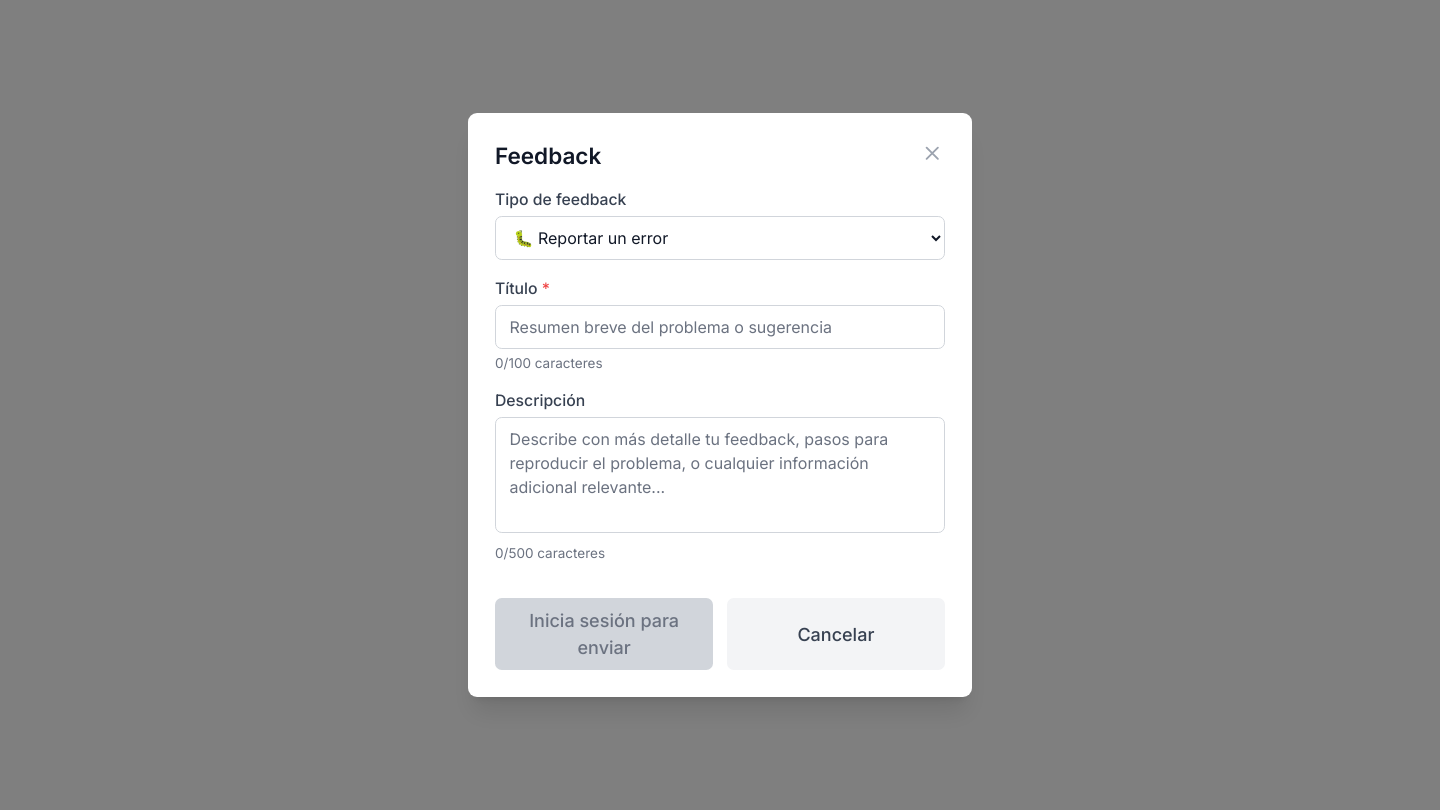
FeedbackModal › Form interactions › should show character count for description field
This screenshot has width=1440, height=810.
Replace the text in the text box labelled "Descripción" with "Test description" at [720, 475], box [495,417,945,533]
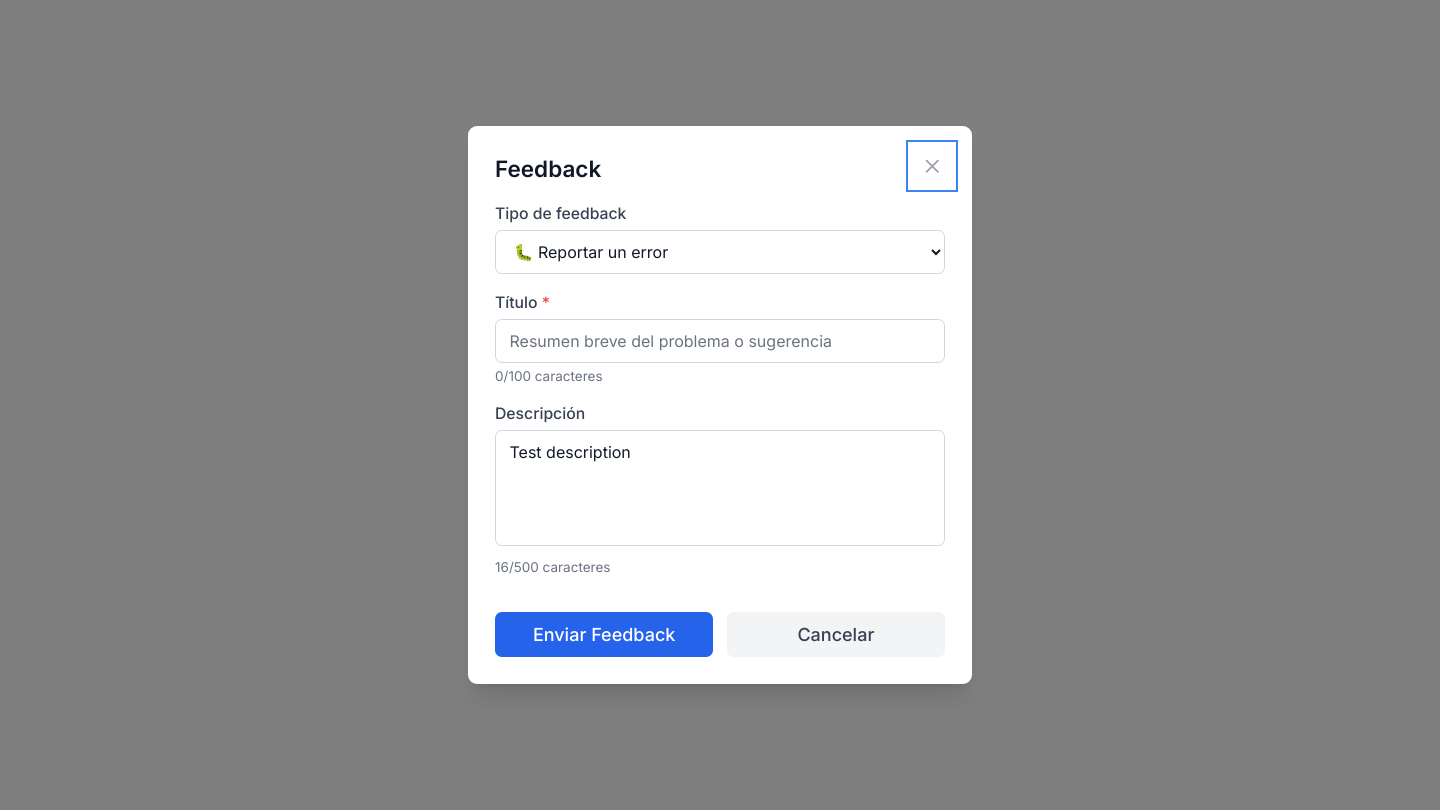
Result: the text "16/500 caracteres" is shown at [495,559,610,575]
